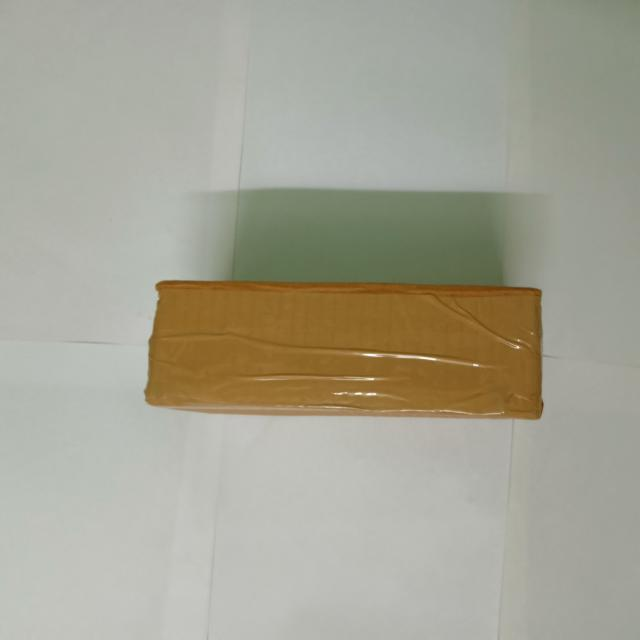box: (144, 282, 543, 419)
